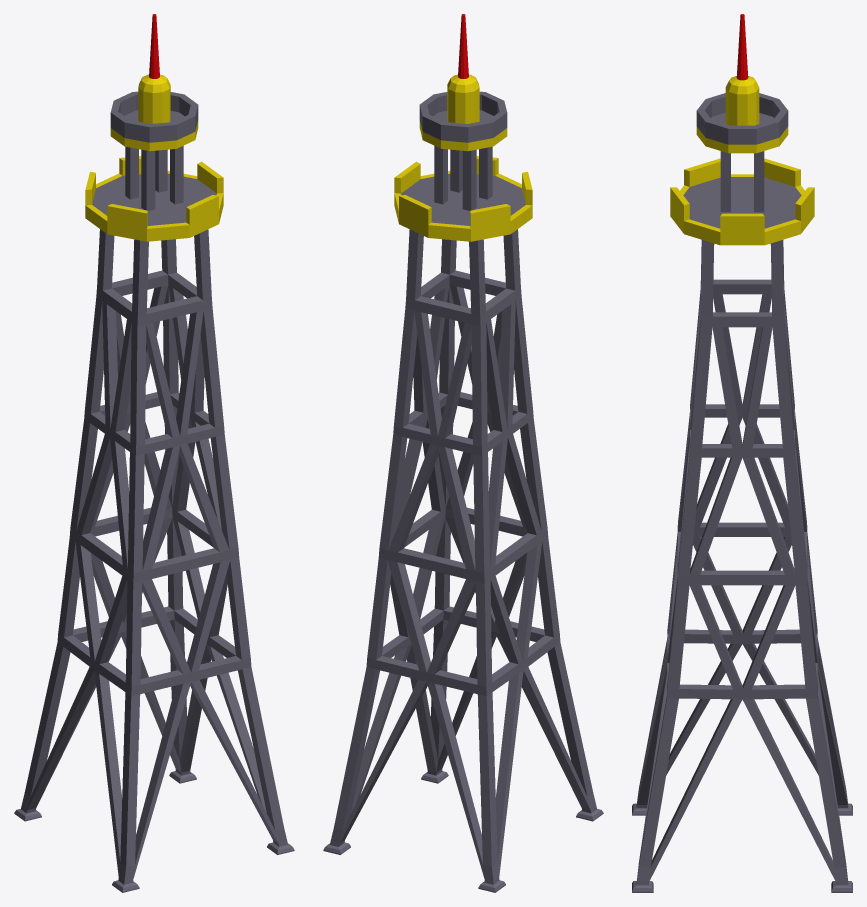
Rendered from Torre.fbx.
3 renders of one model, left to right at view 1: azimuth 30°, elevation 25°; view 2: azimuth 150°, elevation 25°; view 3: azimuth 270°, elevation 25°, orthographic. The views are drawn at different scales.
Visible parts, largest first — view 1: Cube, Cylinder, Cylinder.001, Cube.001; view 2: Cube, Cylinder, Cylinder.001, Cube.001; view 3: Cube, Cylinder, Cylinder.001, Cube.001.
Boxes of the visible parts, left/top/right/bottom form: Cube: left=14, top=229, right=294, bottom=892; Cylinder: left=85, top=156, right=223, bottom=241; Cylinder.001: left=110, top=14, right=198, bottom=151; Cube.001: left=125, top=146, right=183, bottom=210; Cube: left=323, top=229, right=603, bottom=892; Cylinder: left=394, top=156, right=532, bottom=241; Cylinder.001: left=419, top=14, right=507, bottom=151; Cube.001: left=434, top=146, right=492, bottom=210; Cube: left=632, top=240, right=852, bottom=892; Cylinder: left=670, top=158, right=814, bottom=245; Cylinder.001: left=696, top=14, right=788, bottom=153; Cube.001: left=720, top=151, right=764, bottom=212.
Bounding box in the file's own units: 201 × 219 × 914.
